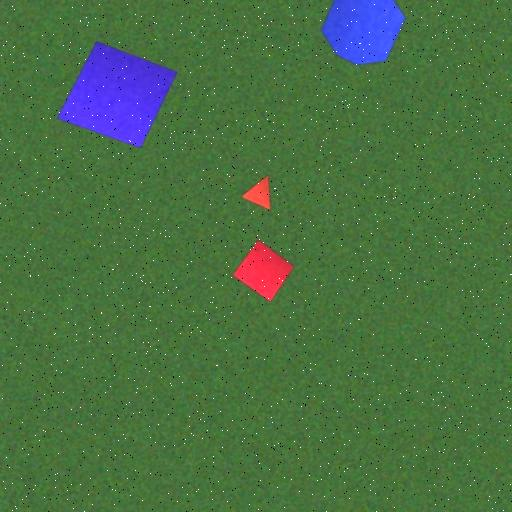BLUE_SQUARE: (56, 41, 178, 149)
RED_SQUARE: (232, 239, 295, 303)
